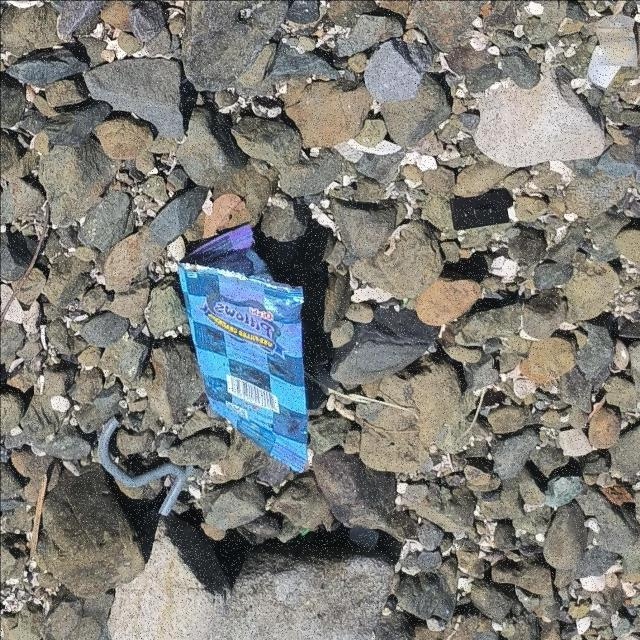plastic_waste: (177, 261, 310, 476)
